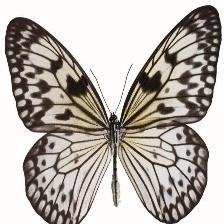butterfly: (5, 5, 222, 224)
